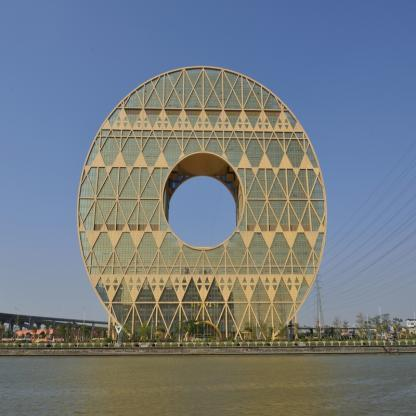Building Outline: (77, 66, 327, 343)
Dont: (100, 307, 308, 347)
Facade: (108, 117, 297, 343)
Floor: (109, 114, 292, 132), (79, 224, 326, 236), (126, 98, 277, 113), (82, 248, 322, 257), (80, 238, 324, 246), (85, 259, 319, 267), (99, 288, 307, 297), (93, 278, 312, 286), (89, 269, 316, 276), (120, 318, 285, 327), (104, 299, 301, 306), (109, 308, 295, 315), (78, 205, 326, 210), (79, 192, 325, 197), (80, 179, 322, 184), (83, 166, 319, 171), (87, 153, 314, 158), (93, 140, 306, 145), (78, 212, 326, 216), (78, 218, 326, 222), (79, 199, 326, 203), (79, 186, 324, 190), (82, 173, 321, 177), (85, 160, 317, 164), (91, 147, 312, 151), (97, 134, 306, 138)
Floor Slab: (78, 223, 326, 225), (78, 216, 326, 218), (78, 210, 326, 212), (78, 204, 326, 206), (79, 197, 326, 199), (79, 236, 325, 238), (79, 191, 325, 193), (80, 184, 324, 186), (81, 247, 324, 249), (81, 178, 323, 180), (83, 171, 322, 173), (83, 257, 321, 259), (85, 165, 320, 167), (86, 267, 318, 269), (87, 158, 318, 160), (89, 276, 315, 278), (88, 152, 314, 154), (91, 145, 311, 147), (94, 286, 311, 288), (95, 139, 307, 141), (100, 297, 306, 299), (105, 306, 300, 308), (99, 132, 284, 134), (111, 315, 294, 317), (111, 113, 292, 115), (124, 327, 283, 329), (126, 96, 277, 98)
Glass Wall: (114, 232, 136, 265), (92, 232, 113, 265), (137, 232, 158, 265), (159, 232, 180, 265), (226, 233, 246, 265), (292, 233, 312, 265), (248, 233, 268, 265), (270, 233, 290, 265), (141, 137, 161, 166), (100, 137, 120, 166), (285, 139, 305, 168), (265, 138, 284, 168), (121, 137, 140, 166), (224, 138, 243, 167), (245, 138, 264, 167), (250, 303, 271, 329), (158, 304, 179, 330), (181, 304, 202, 330), (204, 303, 225, 329), (227, 303, 248, 329), (162, 138, 181, 166), (112, 277, 133, 302), (135, 277, 156, 302), (158, 277, 179, 302), (181, 277, 202, 302), (204, 277, 225, 302), (227, 277, 248, 302), (135, 304, 156, 328), (273, 277, 293, 302), (250, 277, 270, 302), (111, 304, 133, 326), (181, 244, 202, 265), (273, 303, 294, 324), (96, 176, 116, 198), (96, 199, 116, 221), (118, 199, 138, 221), (246, 200, 266, 222), (118, 176, 138, 198), (246, 177, 266, 198), (205, 244, 225, 265), (140, 176, 159, 198), (289, 200, 308, 222), (289, 177, 308, 199), (268, 177, 287, 199), (140, 199, 159, 221), (268, 200, 287, 222), (250, 306, 261, 341), (227, 306, 238, 341), (238, 306, 249, 341), (95, 277, 110, 302), (146, 306, 157, 340), (192, 306, 203, 340), (215, 306, 226, 340), (79, 198, 95, 221), (174, 70, 184, 106), (83, 201, 95, 231), (79, 176, 95, 198), (85, 141, 99, 166), (262, 306, 272, 341), (295, 277, 309, 302), (134, 306, 144, 341), (157, 306, 167, 341), (180, 306, 190, 341), (204, 306, 214, 341), (204, 90, 222, 109), (165, 109, 183, 128), (204, 110, 223, 128), (244, 110, 262, 129), (169, 306, 179, 340), (115, 201, 126, 231), (137, 201, 148, 231), (244, 91, 262, 109), (184, 70, 193, 106), (203, 71, 212, 107), (185, 68, 203, 86), (124, 109, 142, 127), (184, 109, 202, 127), (224, 110, 242, 128), (264, 111, 282, 129), (205, 138, 223, 156), (224, 90, 241, 109), (183, 138, 202, 155), (289, 202, 300, 231), (127, 202, 138, 231), (149, 202, 160, 231), (223, 72, 232, 107), (194, 71, 203, 106), (310, 177, 324, 199), (310, 200, 324, 222), (145, 89, 162, 107), (164, 89, 181, 107), (184, 90, 201, 108), (214, 72, 223, 106), (204, 68, 221, 86), (145, 109, 162, 127), (154, 75, 164, 105), (94, 201, 104, 231), (164, 73, 173, 106), (297, 169, 308, 196), (151, 167, 161, 196), (106, 201, 116, 230), (246, 202, 256, 231), (310, 202, 320, 231), (279, 202, 289, 231), (268, 202, 278, 231), (124, 91, 142, 107), (306, 144, 318, 168), (313, 233, 324, 259), (139, 167, 149, 195), (87, 167, 97, 195), (118, 167, 128, 195), (130, 167, 140, 195), (97, 167, 107, 195), (109, 167, 119, 195), (245, 168, 255, 196), (266, 168, 276, 196), (80, 231, 90, 259), (123, 306, 133, 334), (233, 75, 242, 106), (242, 76, 251, 106), (256, 168, 266, 195), (277, 168, 287, 195), (307, 169, 317, 196), (272, 306, 282, 333), (108, 108, 122, 127), (301, 202, 310, 231), (258, 202, 267, 231), (264, 94, 281, 109), (283, 111, 297, 129), (287, 168, 296, 196), (168, 70, 183, 86), (224, 70, 238, 87), (144, 81, 153, 105), (161, 168, 169, 195), (160, 204, 168, 231), (238, 205, 246, 231), (253, 83, 262, 106), (237, 168, 245, 193), (136, 85, 144, 105), (262, 87, 269, 107), (270, 252, 277, 266), (181, 252, 188, 265), (129, 252, 136, 265), (285, 252, 291, 266), (292, 252, 298, 266), (219, 252, 225, 266), (226, 252, 232, 266), (204, 252, 210, 266), (107, 252, 113, 265), (91, 252, 97, 265), (248, 252, 254, 265), (152, 252, 158, 265), (159, 252, 165, 265), (136, 252, 142, 265), (114, 252, 120, 265), (100, 137, 107, 148), (151, 77, 159, 86), (224, 138, 230, 150), (218, 138, 224, 150), (244, 138, 250, 150), (101, 129, 111, 136), (142, 130, 152, 137), (244, 131, 254, 138), (264, 131, 274, 138), (264, 252, 269, 266), (197, 252, 202, 266), (102, 267, 112, 274), (90, 267, 100, 274), (293, 267, 303, 274), (271, 267, 281, 274), (226, 267, 236, 274), (204, 267, 214, 274), (193, 267, 203, 274), (181, 267, 191, 274), (136, 267, 146, 274), (125, 267, 135, 274), (113, 267, 123, 274), (284, 139, 290, 150), (278, 139, 284, 150), (121, 137, 127, 148), (115, 137, 121, 148), (142, 137, 148, 148), (156, 137, 162, 148), (183, 137, 189, 148), (176, 137, 182, 148), (204, 138, 210, 149), (197, 138, 203, 149), (308, 252, 313, 265), (242, 252, 247, 265), (175, 252, 180, 265), (85, 252, 90, 265), (112, 129, 121, 136), (153, 130, 162, 137), (163, 130, 172, 137), (183, 130, 192, 137), (122, 129, 131, 136), (305, 267, 314, 274), (282, 267, 291, 274), (249, 267, 258, 274), (238, 267, 247, 274), (216, 267, 225, 274), (171, 267, 180, 274), (159, 267, 168, 274), (148, 267, 157, 274), (238, 138, 243, 150), (265, 138, 270, 150), (298, 139, 304, 149), (133, 130, 141, 137), (174, 130, 182, 137), (235, 131, 243, 138), (255, 131, 263, 138), (261, 267, 269, 274), (136, 137, 141, 148), (163, 137, 168, 148), (95, 137, 100, 148), (248, 79, 254, 88), (284, 132, 293, 138), (194, 131, 203, 137), (204, 131, 213, 137), (224, 131, 233, 137), (295, 132, 303, 138), (215, 131, 223, 137), (275, 132, 283, 138), (111, 306, 115, 317), (294, 276, 300, 283), (272, 276, 278, 283), (204, 276, 210, 283), (181, 276, 187, 283), (151, 276, 157, 283), (128, 276, 134, 283), (290, 307, 294, 317), (79, 214, 82, 227), (322, 216, 325, 228), (256, 267, 262, 273), (166, 267, 172, 273), (294, 285, 300, 291), (272, 285, 278, 291), (242, 285, 248, 291), (219, 285, 225, 291), (204, 285, 210, 291), (181, 285, 187, 291), (151, 285, 157, 291), (128, 285, 134, 291), (113, 276, 118, 283), (106, 276, 111, 283), (287, 276, 292, 283), (265, 276, 270, 283), (250, 276, 255, 283), (242, 276, 247, 283), (227, 276, 232, 283), (219, 276, 224, 283), (197, 276, 202, 283), (174, 276, 179, 283), (159, 276, 164, 283), (136, 276, 141, 283), (305, 139, 308, 150), (318, 172, 321, 182), (98, 267, 103, 273), (301, 267, 306, 273), (279, 267, 284, 273), (234, 267, 239, 273), (212, 267, 217, 273), (189, 267, 194, 273), (144, 267, 149, 273), (121, 267, 126, 273), (144, 116, 149, 122), (137, 116, 142, 122), (164, 116, 169, 122), (157, 116, 162, 122), (177, 116, 182, 122), (177, 124, 183, 129), (204, 124, 210, 129), (257, 124, 263, 129), (113, 285, 118, 291), (106, 285, 111, 291), (287, 285, 292, 291), (265, 285, 270, 291), (250, 285, 255, 291), (227, 285, 232, 291), (197, 285, 202, 291), (174, 285, 179, 291), (159, 285, 164, 291), (136, 285, 141, 291), (129, 131, 134, 136), (284, 118, 289, 123), (277, 118, 282, 123), (123, 116, 128, 121), (116, 116, 121, 121), (123, 122, 128, 127), (116, 122, 121, 127), (144, 123, 149, 128), (137, 123, 142, 128), (164, 123, 169, 128), (157, 123, 162, 128), (184, 117, 189, 122), (184, 124, 189, 129), (204, 117, 209, 122), (198, 117, 203, 122), (198, 124, 203, 129), (218, 124, 223, 129), (244, 124, 249, 129), (238, 124, 243, 129), (264, 118, 269, 123), (257, 118, 262, 123), (217, 118, 223, 122), (292, 133, 296, 138), (231, 133, 236, 137), (211, 132, 215, 137), (191, 132, 195, 137), (171, 132, 175, 137), (150, 131, 154, 136), (295, 303, 300, 307), (284, 125, 289, 129), (225, 124, 229, 129), (244, 118, 249, 122), (237, 118, 242, 122), (264, 125, 269, 129), (109, 131, 113, 135), (272, 133, 276, 137), (252, 133, 256, 137), (278, 125, 282, 129), (225, 118, 229, 122), (105, 304, 109, 307), (87, 267, 89, 272), (315, 267, 317, 272), (108, 306, 110, 311), (295, 306, 297, 310)
Ground Floor: (129, 328, 275, 343)
Top Floor: (126, 66, 277, 96)
